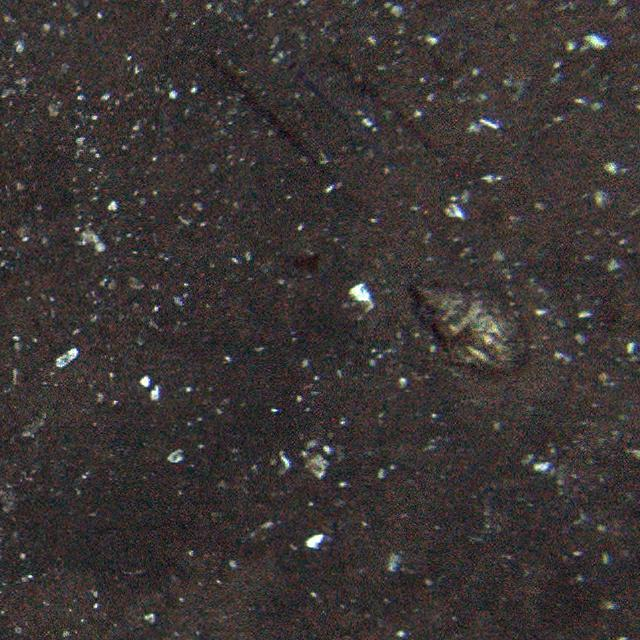whelk: (414, 276, 528, 376)
